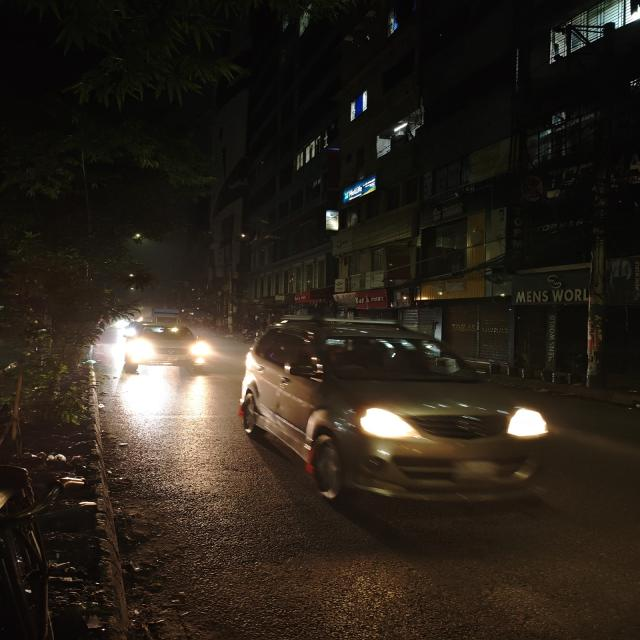bus: (520, 0, 638, 70)
car: (232, 320, 558, 508), (118, 320, 217, 378)
